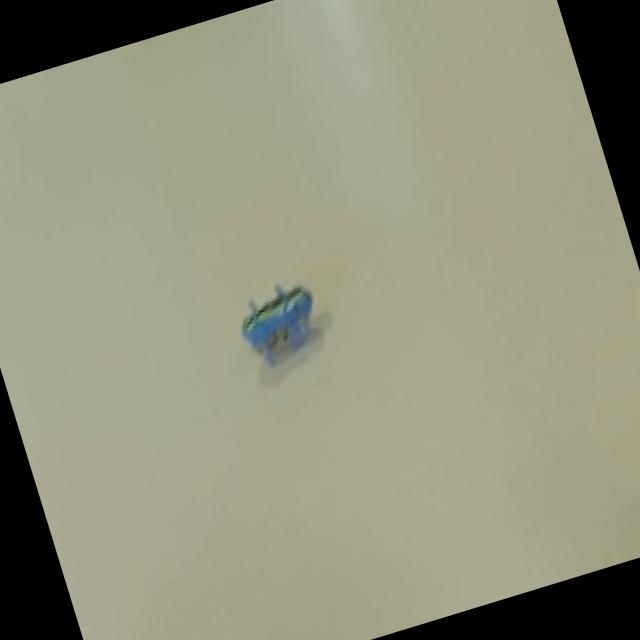3_NanoBug_Celeste: (198, 228, 386, 414)
